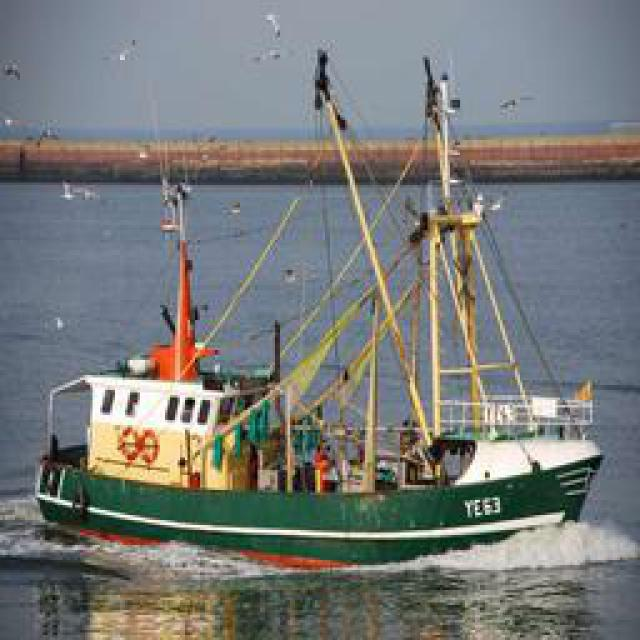Ship: (30, 9, 618, 572)
